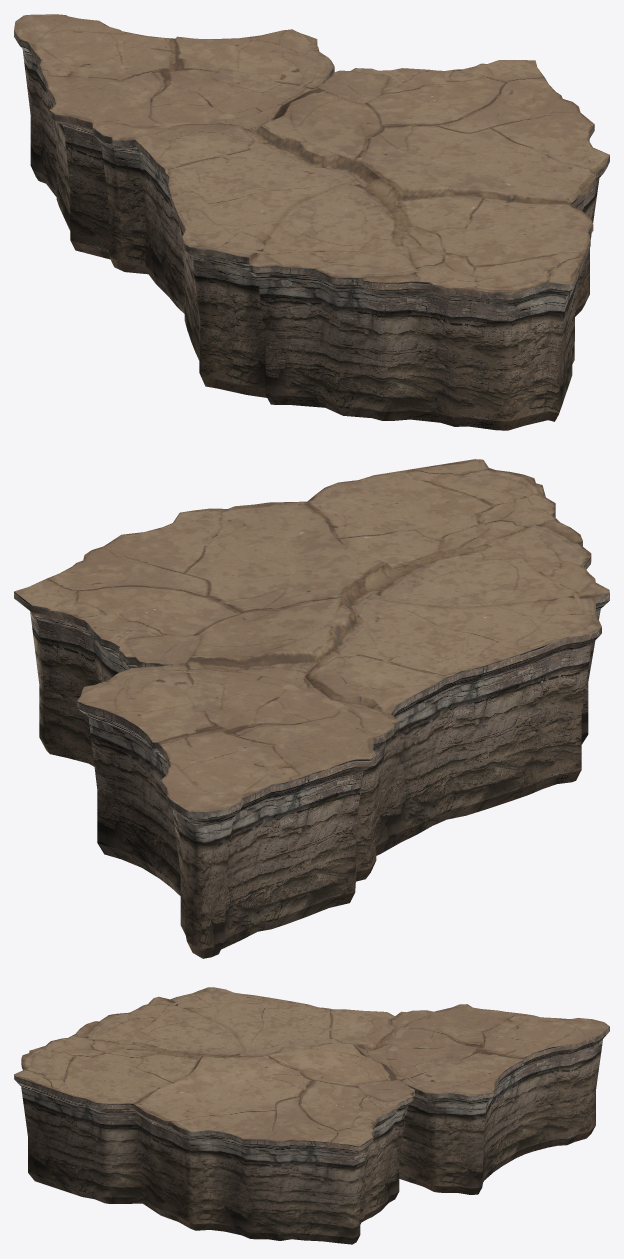
The model's file is caves_saltmine_ground_edge_02.dae.
3 views of the same model, one above another, from view 1: azimuth 30°, elevation 25°; view 2: azimuth 150°, elevation 25°; view 3: azimuth 270°, elevation 25° (orthographic). The views are drawn at different scales.
Visible parts, largest first — view 1: 02, Mesh; view 2: 02, Mesh; view 3: Mesh, 02.
Boxes of the visible parts, x1,y1,x2,y2 form: 02: (14,14,609,293); Mesh: (14,31,609,430); 02: (14,459,609,812); Mesh: (14,512,609,958); Mesh: (14,1026,609,1244); 02: (14,987,609,1146).
Bounding box in the file's own units: 2.51 × 0.8246 × 3.96.
